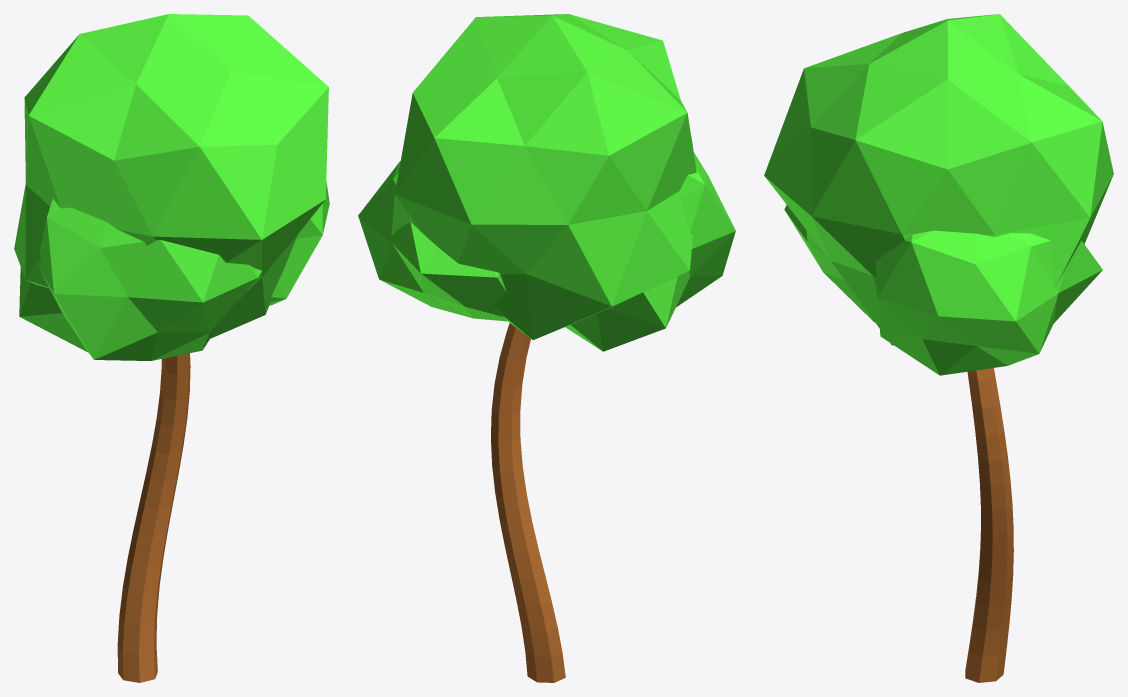
The model's file is tree1.fbx.
3 views of the same model, side by side, from view 1: azimuth 30°, elevation 25°; view 2: azimuth 150°, elevation 25°; view 3: azimuth 270°, elevation 25° (orthographic). The views are drawn at different scales.
Visible parts, largest first — view 1: Icosphere, Icosphere.002, Cylinder, Icosphere.001; view 2: Icosphere, Cylinder, Icosphere.001, Icosphere.002; view 3: Icosphere, Icosphere.001, Cylinder, Icosphere.002.
Boxes of the visible parts, bbox=[...] form: Icosphere: bbox=[14, 14, 328, 338]; Icosphere.002: bbox=[19, 199, 261, 360]; Cylinder: bbox=[117, 353, 190, 682]; Icosphere.001: bbox=[269, 181, 329, 305]; Icosphere: bbox=[391, 14, 696, 339]; Cylinder: bbox=[491, 323, 565, 682]; Icosphere.001: bbox=[358, 161, 508, 321]; Icosphere.002: bbox=[565, 153, 735, 351]; Icosphere: bbox=[764, 14, 1113, 345]; Icosphere.001: bbox=[876, 230, 1102, 375]; Cylinder: bbox=[965, 368, 1013, 682]; Icosphere.002: bbox=[784, 205, 874, 322].
Bounding box in the file's own units: 398 × 795 × 382.
